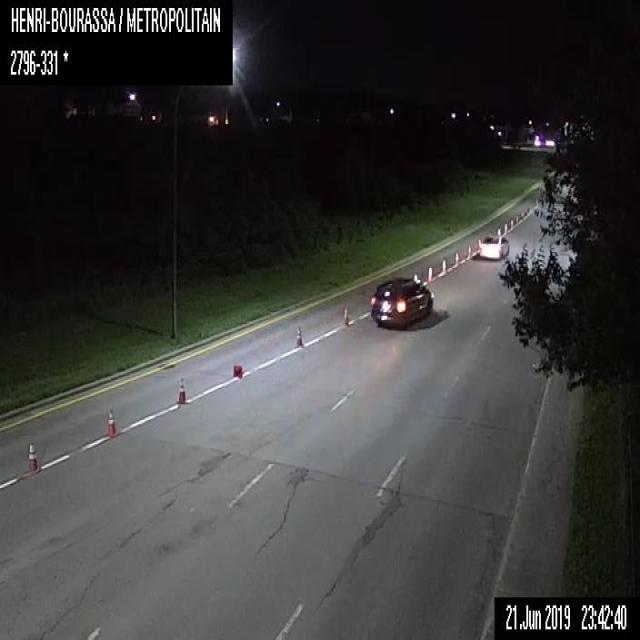construction: (28, 437, 36, 472), (106, 407, 115, 436), (231, 362, 246, 378), (177, 377, 186, 403), (340, 307, 349, 328), (294, 325, 302, 347), (426, 264, 432, 281), (465, 240, 471, 256), (440, 256, 445, 273), (454, 248, 458, 264), (413, 272, 419, 281), (476, 236, 480, 249), (503, 223, 507, 233), (496, 226, 500, 233), (510, 218, 512, 230), (515, 214, 517, 224)
vehicle: (370, 275, 433, 329), (478, 232, 509, 257)
